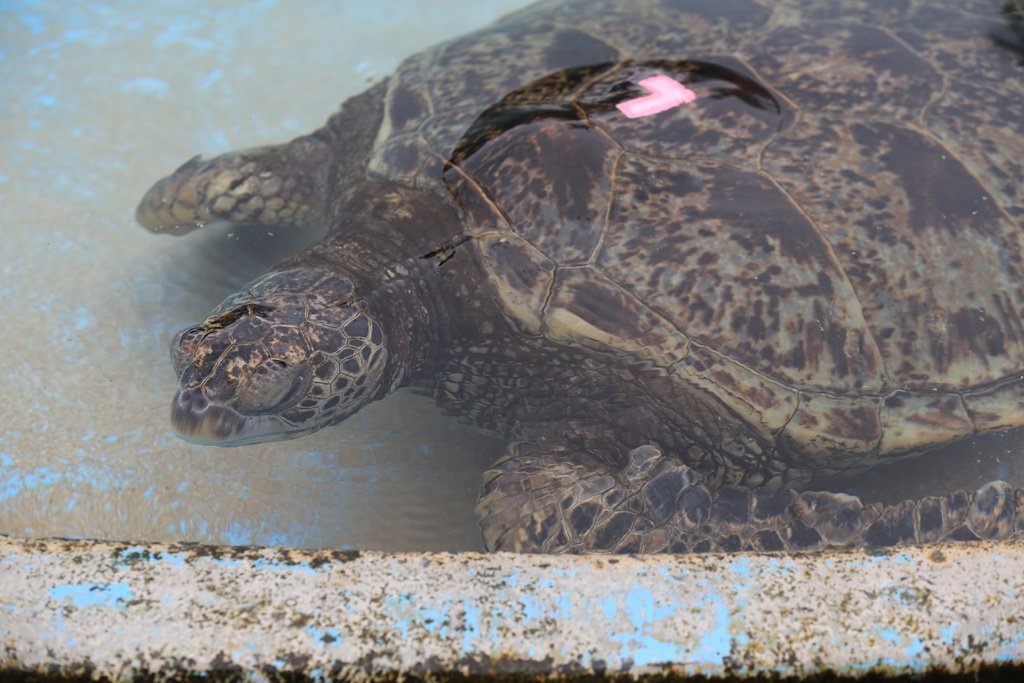Sea turtles: (134, 0, 1023, 553)
